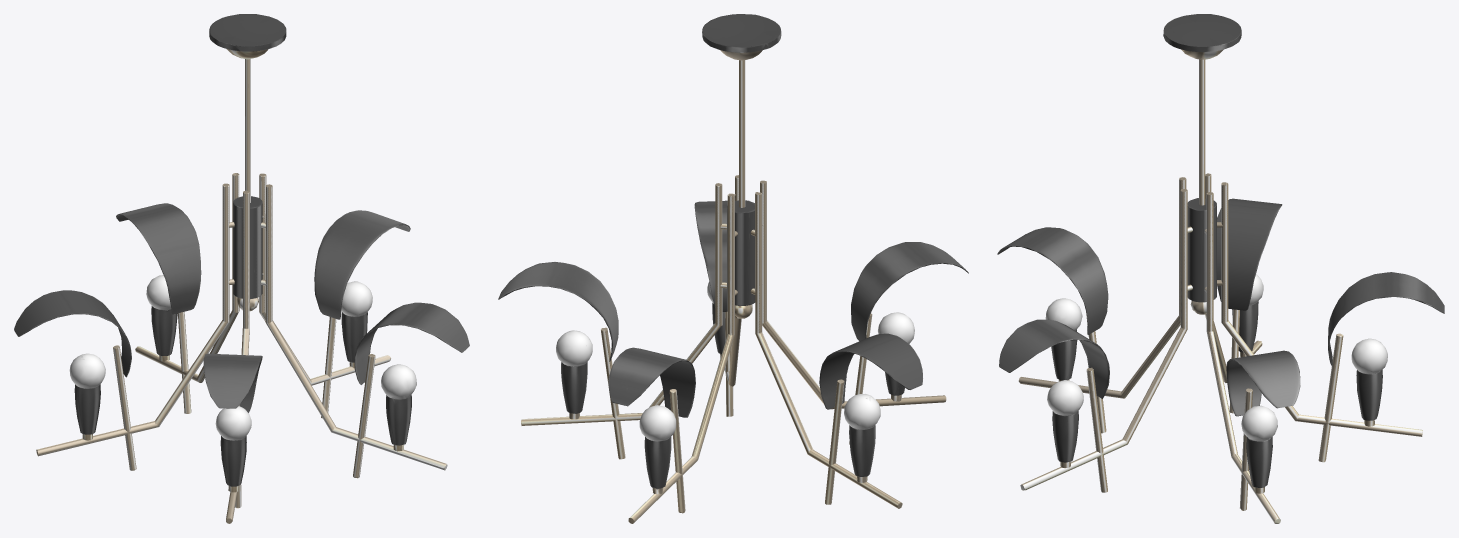
The model's file is raw_model.obj.
The picture shows the model from 3 angles, left to right: view 1: azimuth 30°, elevation 25°; view 2: azimuth 150°, elevation 25°; view 3: azimuth 270°, elevation 25°; orthographic projection. The views are drawn at different scales.
Parts seen in each view (by area): view 1: solid_002, solid_001, solid_003; view 2: solid_002, solid_001, solid_003; view 3: solid_002, solid_001, solid_003.
Part boxes in pixels (x1,y1,x2,y2): solid_002: (14,14,469,486); solid_001: (36,49,447,523); solid_003: (69,275,416,440); solid_002: (498,14,968,488); solid_001: (521,50,946,523); solid_003: (556,282,914,441); solid_002: (997,14,1444,487); solid_001: (1018,49,1422,523); solid_003: (1045,274,1387,441).
Size of the model in its own units: 0.7146 by 0.7263 by 0.6827.
Materials: 1 (1 with a texture image).
